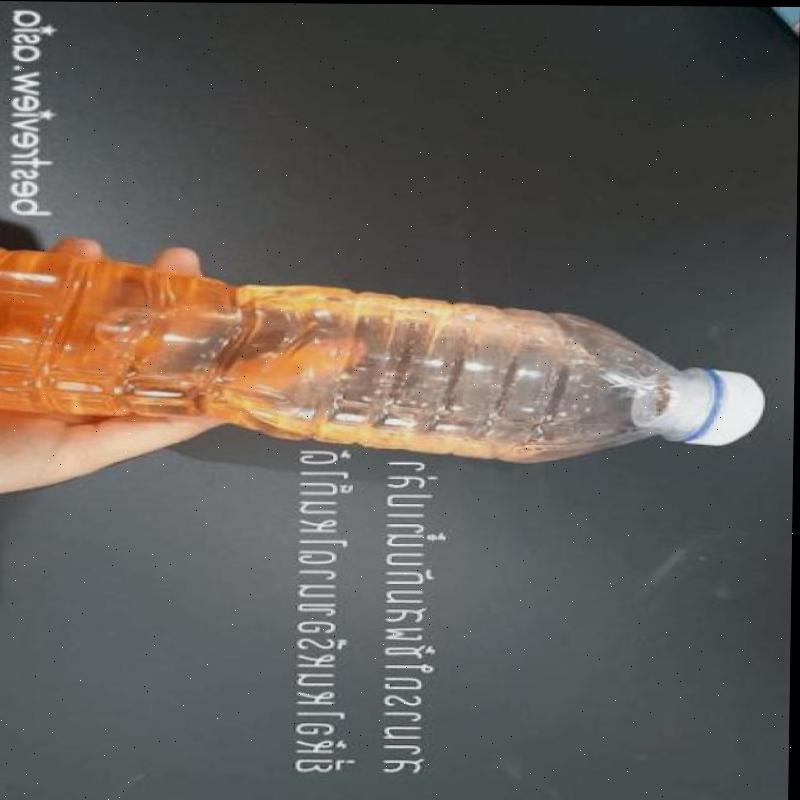botella: (0, 243, 771, 463)
